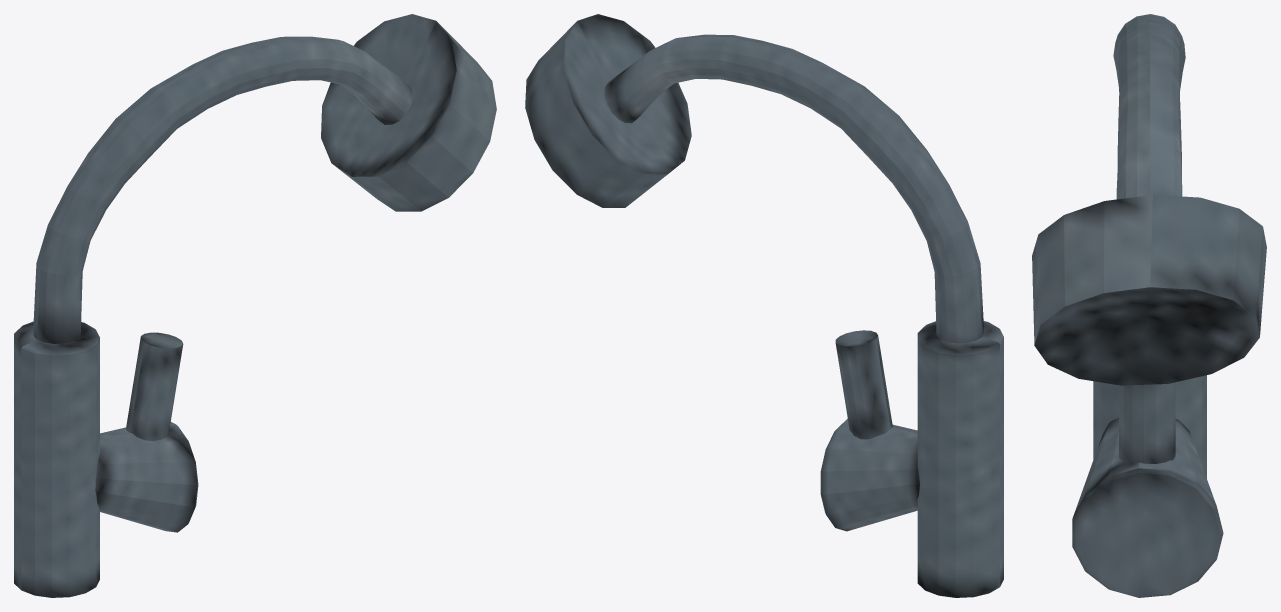
File: detail_faucet.glb
3 views of the same model, side by side, from view 1: azimuth 30°, elevation 25°; view 2: azimuth 150°, elevation 25°; view 3: azimuth 270°, elevation 25° (orthographic). The views are drawn at different scales.
Parts seen in each view (by area): view 1: faucet; view 2: faucet; view 3: faucet.
Boxes of the visible parts, x1,y1,x2,y2 form: faucet: [14, 14, 496, 597]; faucet: [525, 14, 1003, 597]; faucet: [1032, 14, 1266, 597].
Size of the model in its own units: 0.0229 by 0.0232 by 0.00768.
Materials: 1 (1 with a texture image).
